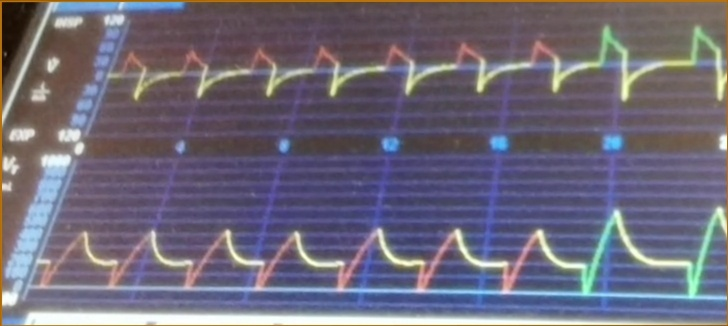Flow: (121, 21, 728, 133)
Leakage Volume: (56, 196, 728, 311)
